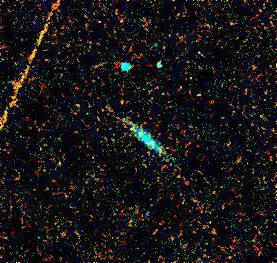star: (112, 86, 142, 116)
